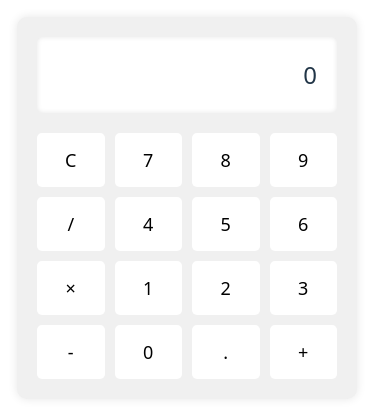
Test: Calculator › handles decimal point correctly
Click the button with test id "digit-5".
click(226, 224)  # box [192, 197, 260, 251]
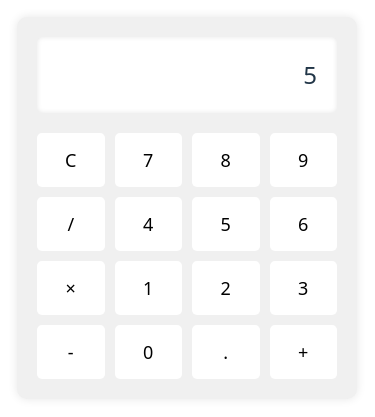
Click the button with test id "decimal".
click(226, 352)  # box [192, 325, 260, 379]
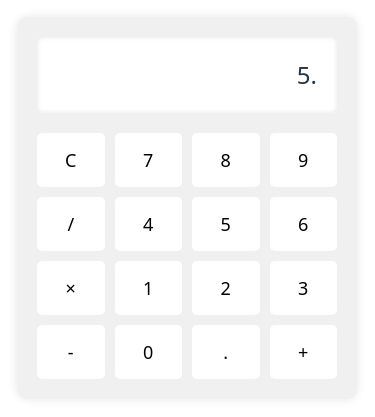
Click the button with test id "digit-2".
click(226, 288)  # box [192, 261, 260, 315]
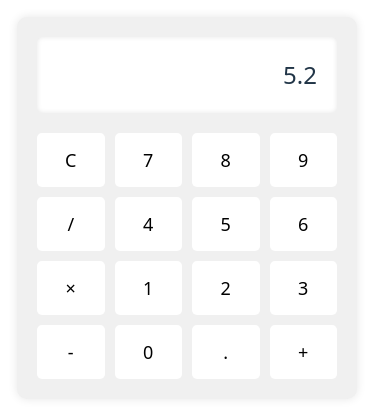
Result: the text with test id "display" reads "5.2" at [283, 58, 317, 91]
